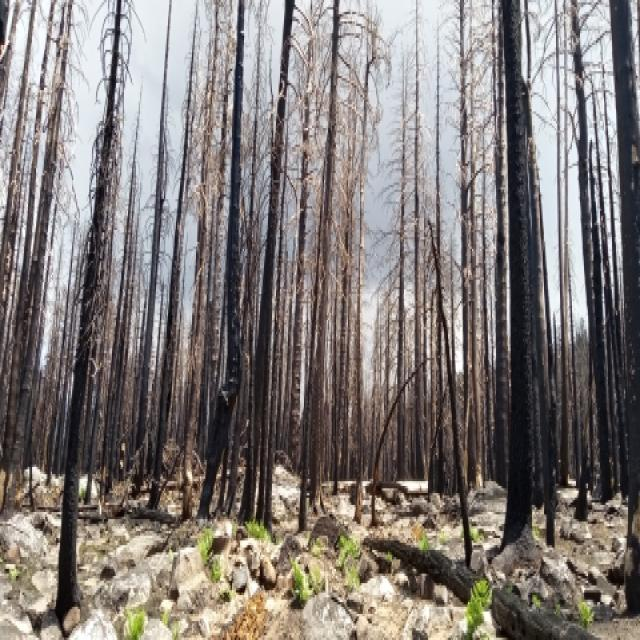Forest Fire: (56, 59, 640, 554)
